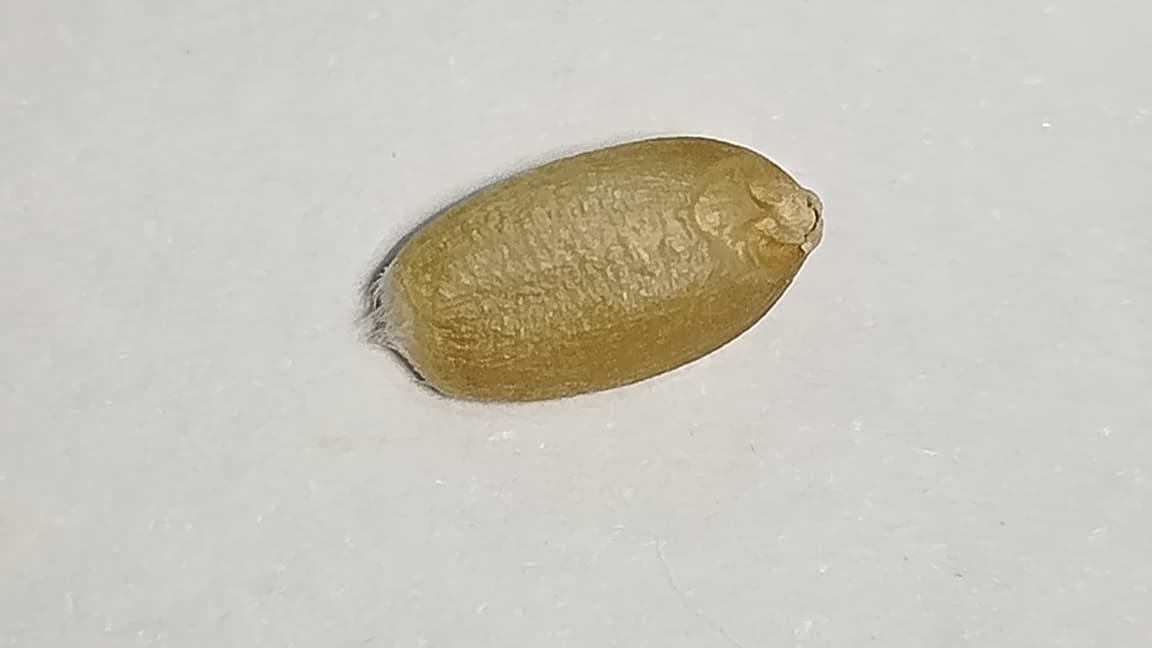healthy: (373, 137, 820, 400)
